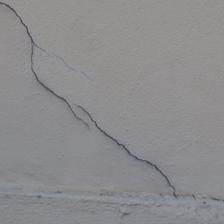Crack: (24, 54, 148, 148), (12, 41, 77, 140)
